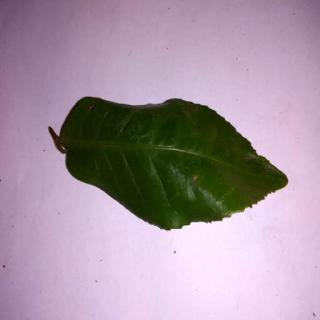Bird Eye Spot: (50, 96, 290, 232)
